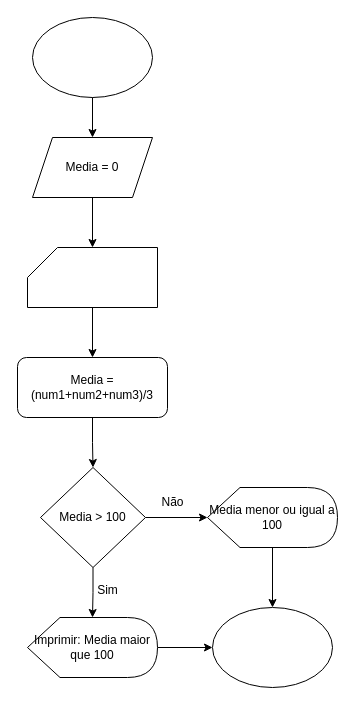
This 355x705 diagram has some shape labels left out. The shapes that lost their labels are listed below. From the top down, each one's box as (x1, y1, x2, y2) in pixels, then its label:
(32, 16, 152, 98): Inicio
(26, 246, 158, 308): Ler num1, num2, num3
(212, 606, 332, 688): Fim
